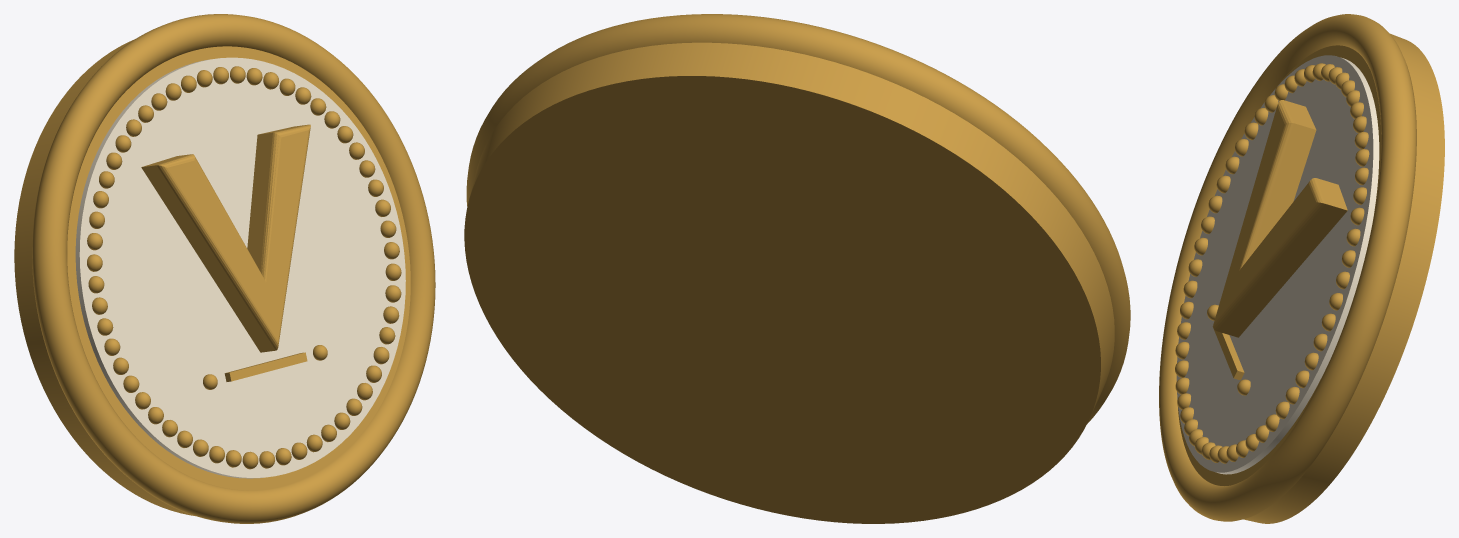
File: deco-sceau-velluce.glb
The picture shows the model from 3 angles, left to right: view 1: azimuth 30°, elevation 25°; view 2: azimuth 150°, elevation 25°; view 3: azimuth 270°, elevation 25°; orthographic projection. The views are drawn at different scales.
Visible parts, largest first — view 1: deco-sceau-velluce; view 2: deco-sceau-velluce; view 3: deco-sceau-velluce.
Part boxes in pixels (<box>): deco-sceau-velluce: <box>14,14,435,523</box>; deco-sceau-velluce: <box>464,14,1130,523</box>; deco-sceau-velluce: <box>1159,14,1444,523</box>.
Size of the model in its own units: 0.1763 by 0.1692 by 0.0981.
